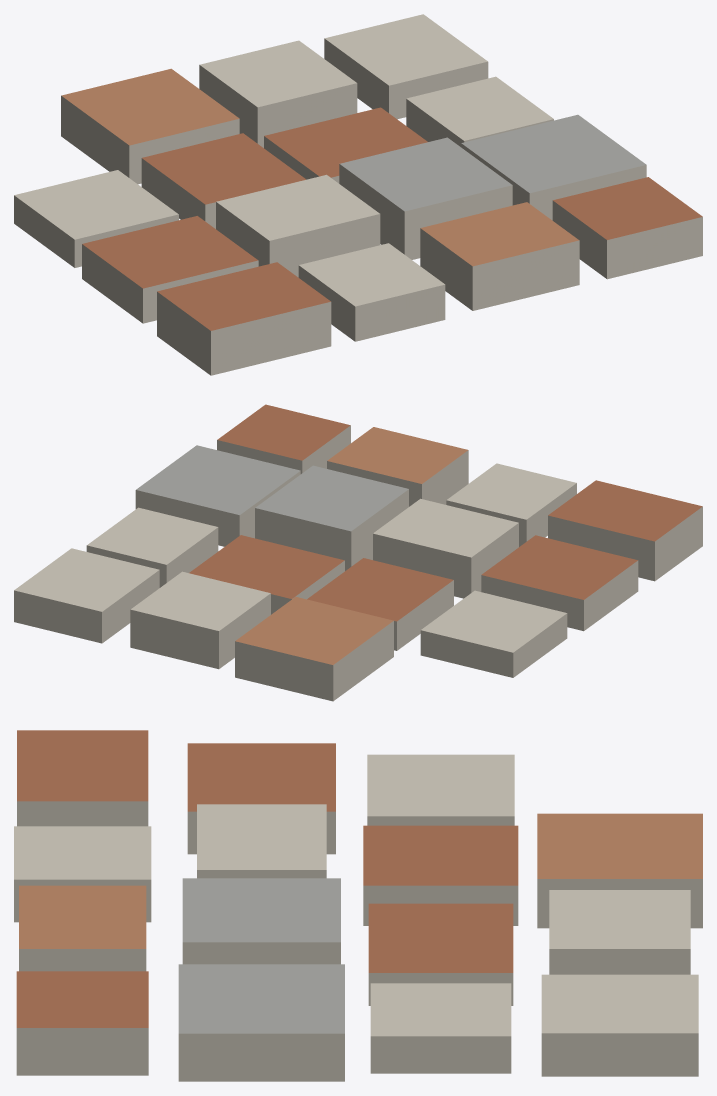
The model's file is quadra_2.glb.
3 renders of one model, top to bottom at view 1: azimuth 30°, elevation 25°; view 2: azimuth 150°, elevation 25°; view 3: azimuth 270°, elevation 25°, orthographic. The views are drawn at different scales.
Visible parts, largest first — view 1: d, a, c, b; view 2: d, a, c, b; view 3: d, a, c, b.
Boxes of the visible parts, left/top/right/bottom form: d: left=14, top=14, right=702, bottom=375; a: left=82, top=107, right=702, bottom=330; c: left=339, top=114, right=646, bottom=211; b: left=61, top=68, right=578, bottom=266; d: left=14, top=425, right=702, bottom=701; a: left=189, top=404, right=702, bottom=621; c: left=136, top=445, right=408, bottom=531; b: left=235, top=427, right=467, bottom=664; d: left=14, top=754, right=702, bottom=1081; a: left=16, top=730, right=518, bottom=1027; c: left=178, top=878, right=344, bottom=1033; b: left=19, top=813, right=702, bottom=948.
Size of the model in its own units: 82.47 by 7.9 by 80.77.
